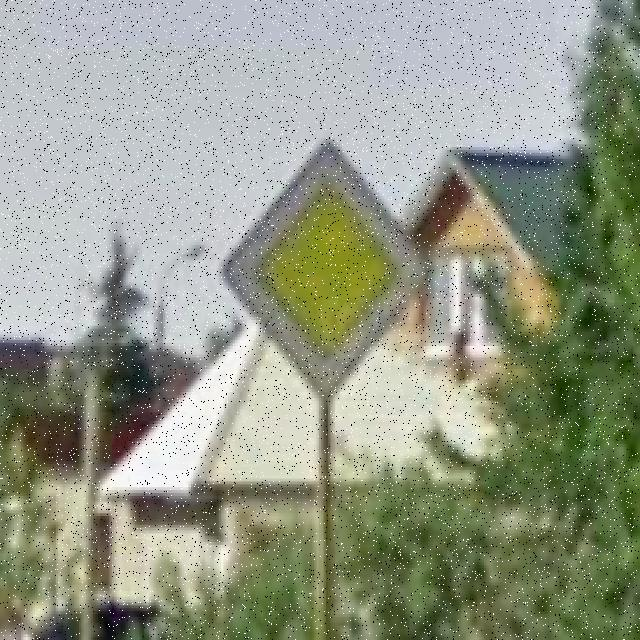Droga z pierwszenstwem: (224, 138, 428, 398)
